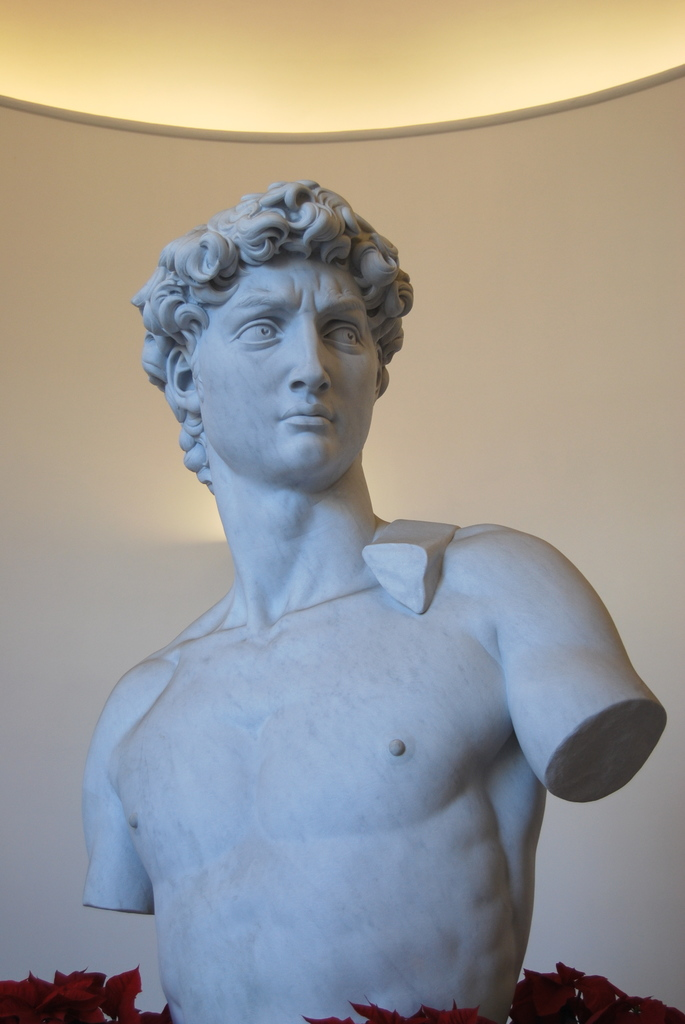Human-face: (190, 243, 379, 481)
